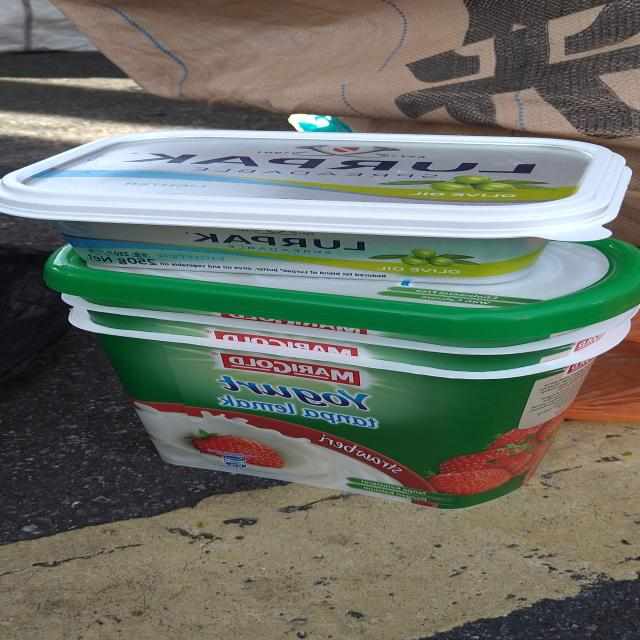plastic: (49, 243, 625, 510), (0, 135, 640, 276)
